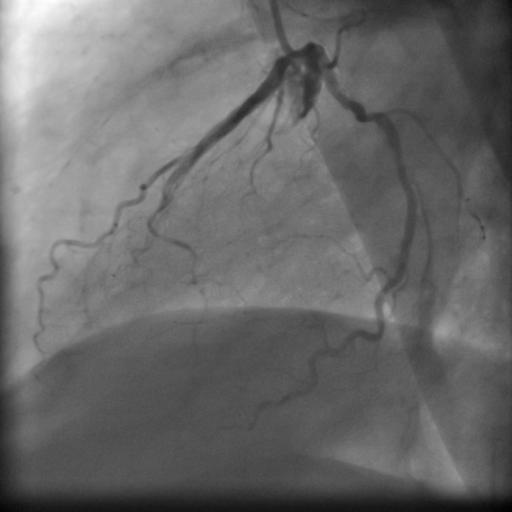Stenosis: (355, 94, 374, 136)
